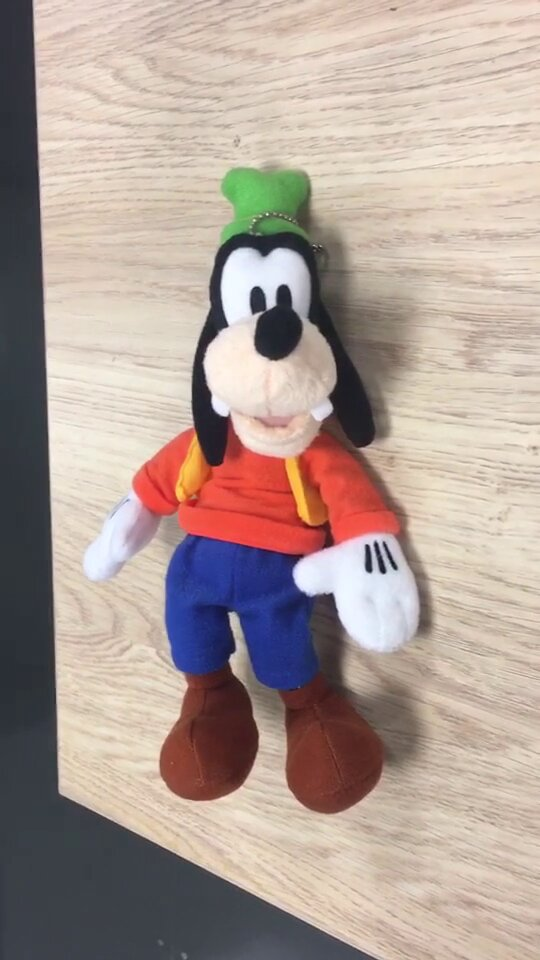goofy: (78, 162, 426, 820)
